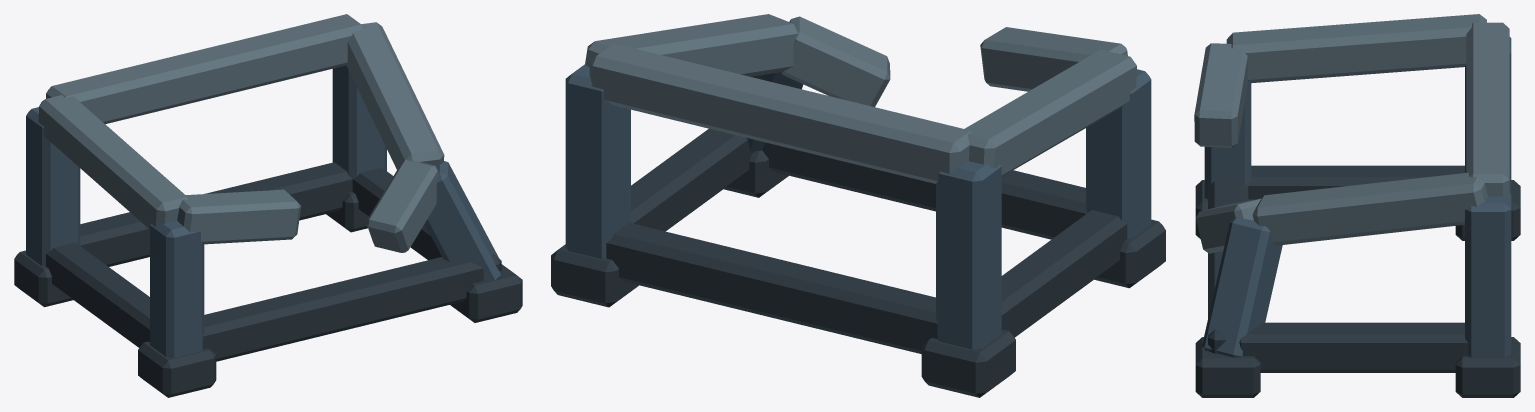
File: survey-cargo-frame.glb
3 renders of one model, left to right at view 1: azimuth 30°, elevation 25°; view 2: azimuth 150°, elevation 25°; view 3: azimuth 270°, elevation 25°, orthographic. The views are drawn at different scales.
Parts seen in each view (by area): view 1: survey-cargo-frame; view 2: survey-cargo-frame; view 3: survey-cargo-frame.
Part boxes in pixels (x1,y1,x2,y2): survey-cargo-frame: [14, 14, 522, 397]; survey-cargo-frame: [551, 14, 1165, 397]; survey-cargo-frame: [1194, 14, 1520, 397].
Bounding box in the file's own units: 1.41 × 0.75 × 1.05.
1 material, 1 textured.
